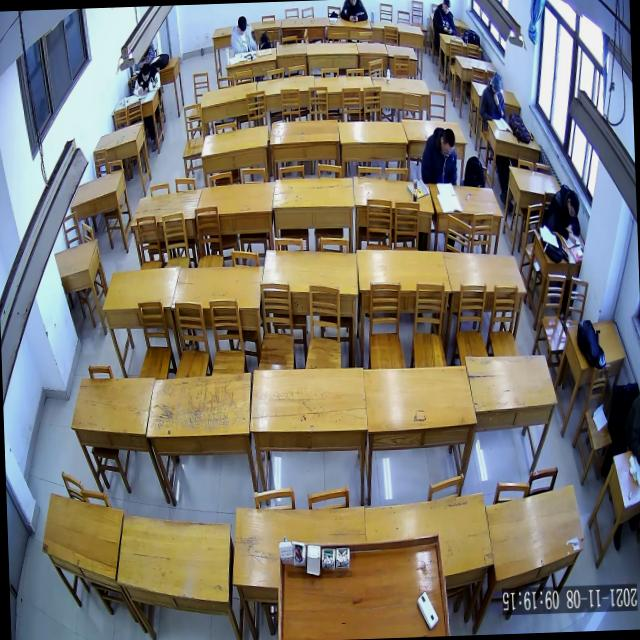bow: (132, 60, 160, 96)
down: (439, 127, 456, 160), (566, 190, 580, 220), (490, 70, 502, 96), (236, 14, 248, 37), (140, 62, 152, 84), (441, 0, 451, 15)
sit: (542, 182, 582, 247), (418, 125, 458, 187), (478, 70, 507, 122), (228, 13, 258, 52), (431, 0, 457, 36)
